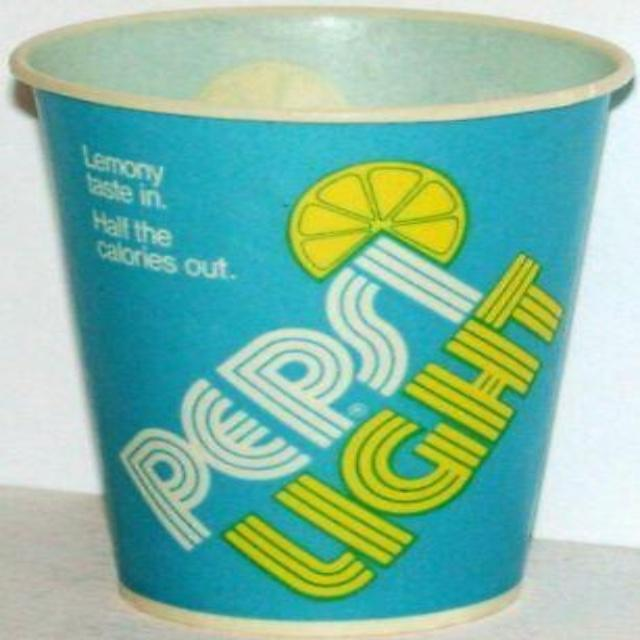paper_cup: (11, 6, 640, 640)
